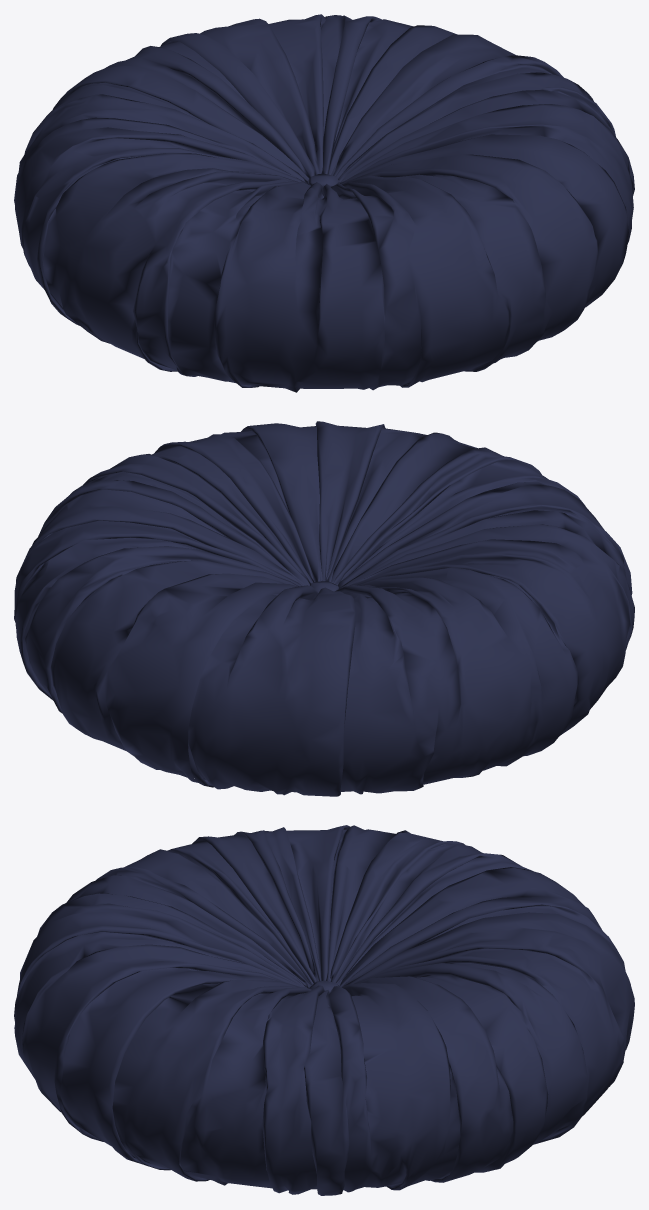
Rendered from pouf.glb.
3 views of the same model, one above another, from view 1: azimuth 30°, elevation 25°; view 2: azimuth 150°, elevation 25°; view 3: azimuth 270°, elevation 25° (orthographic).
Parts seen in each view (by area): view 1: SpecularSilkPouf; view 2: SpecularSilkPouf; view 3: SpecularSilkPouf.
Boxes of the visible parts, bbox=[...] form: SpecularSilkPouf: bbox=[14, 14, 634, 392]; SpecularSilkPouf: bbox=[14, 421, 634, 796]; SpecularSilkPouf: bbox=[14, 825, 634, 1195].
Bounding box in the file's own units: 0.6099 × 0.1973 × 0.6098.
